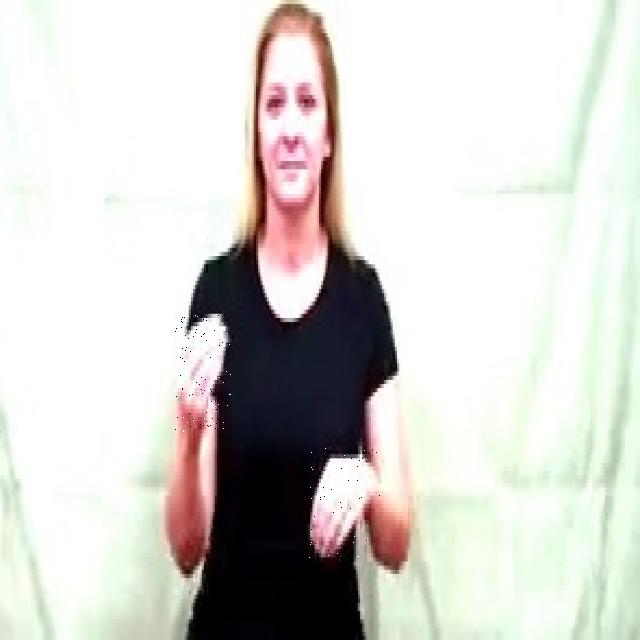ingredients: (306, 448, 380, 558), (174, 313, 231, 433)
